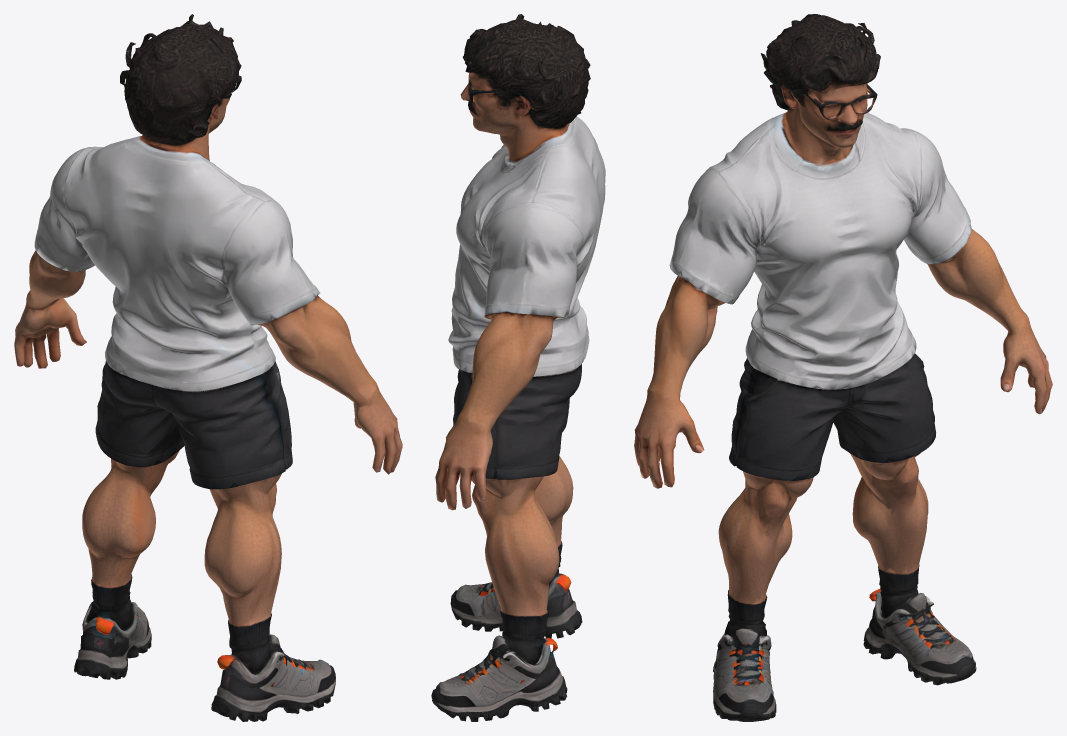
File: bido.glb
The picture shows the model from 3 angles, left to right: view 1: azimuth 30°, elevation 25°; view 2: azimuth 150°, elevation 25°; view 3: azimuth 270°, elevation 25°; orthographic projection. The views are drawn at different scales.
Visible parts, largest first — view 1: tripo_node_6c86bd8d-a8c8-4055-bd65-97cb39130225; view 2: tripo_node_6c86bd8d-a8c8-4055-bd65-97cb39130225; view 3: tripo_node_6c86bd8d-a8c8-4055-bd65-97cb39130225.
Boxes of the visible parts, bbox=[...] form: tripo_node_6c86bd8d-a8c8-4055-bd65-97cb39130225: bbox=[14, 14, 402, 721]; tripo_node_6c86bd8d-a8c8-4055-bd65-97cb39130225: bbox=[431, 14, 605, 721]; tripo_node_6c86bd8d-a8c8-4055-bd65-97cb39130225: bbox=[634, 14, 1052, 721].
Bounding box in the file's own units: 0.3653 × 0.9978 × 0.5821.
1 material, 1 textured.
